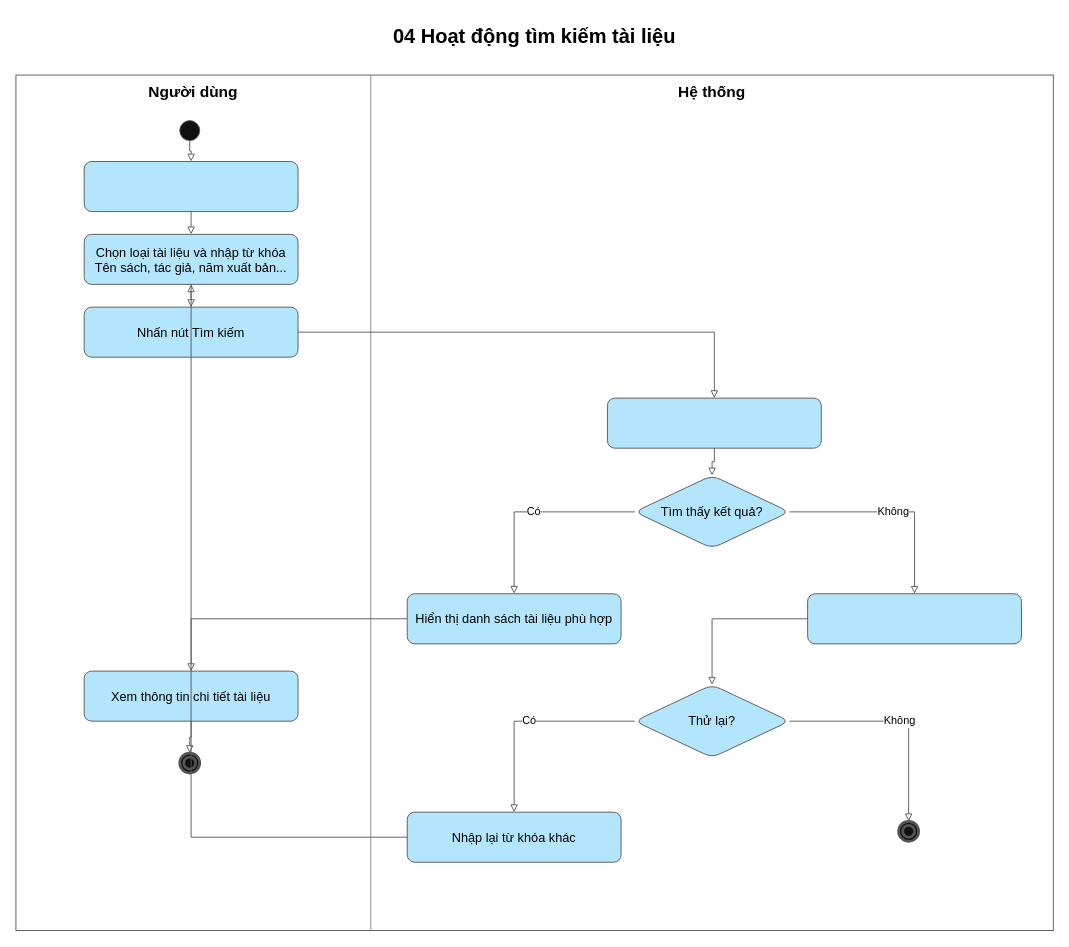
Some shapes in this 1069 by 947 pixel diagram are drawn without their labels. The centre of each missing label's shape, as x and y in pixels:
"Không tìm thấy tài liệu" goes at point (914, 618).
"Truy cập trang tìm kiếm" goes at point (190, 186).
"Truy vấn CSDL theo tiêu chí" goes at point (714, 422).
